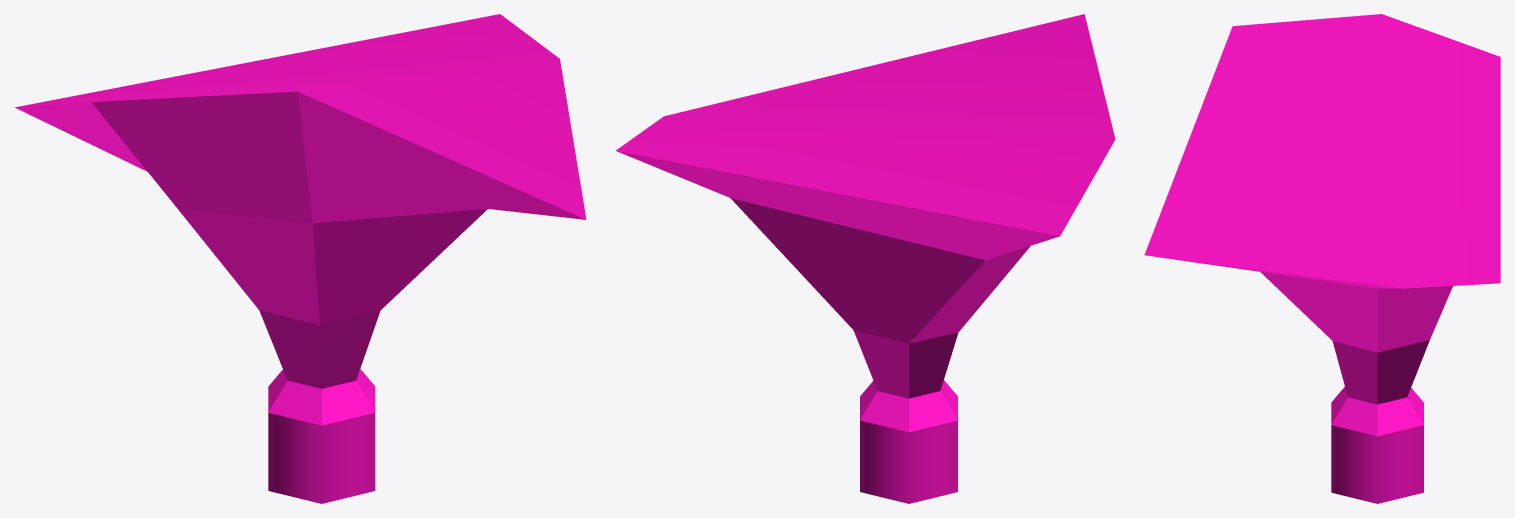
Rendered from study_plant_2_meshCollider.fbx.
3 views of the same model, side by side, from view 1: azimuth 30°, elevation 25°; view 2: azimuth 150°, elevation 25°; view 3: azimuth 270°, elevation 25° (orthographic). The views are drawn at different scales.
Visible parts, largest first — view 1: study_plant_2_meshCollider; view 2: study_plant_2_meshCollider; view 3: study_plant_2_meshCollider.
Boxes of the visible parts, bbox=[...] form: study_plant_2_meshCollider: bbox=[15, 14, 586, 503]; study_plant_2_meshCollider: bbox=[616, 14, 1115, 503]; study_plant_2_meshCollider: bbox=[1144, 14, 1500, 503].
Size of the model in its own units: 64.92 by 60.12 by 47.38.
